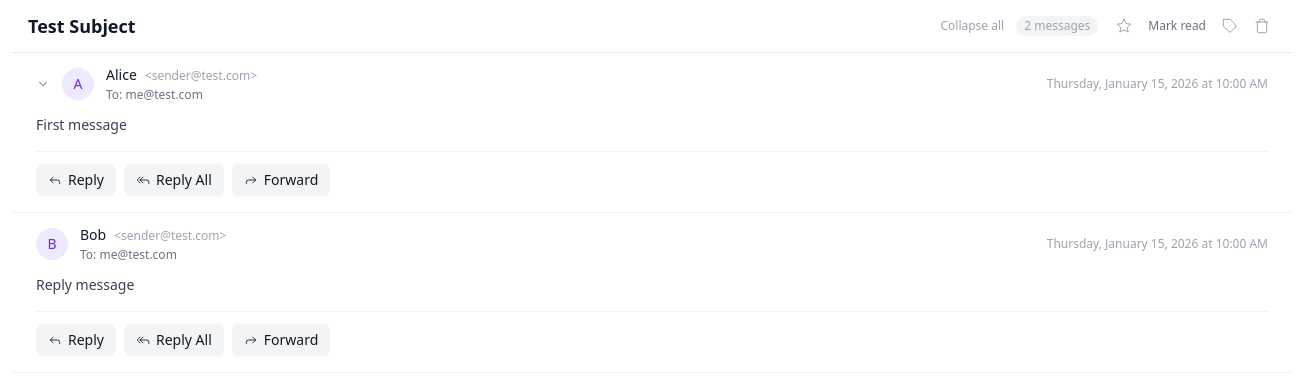
Scenario: MessageDetail › thread messages can be expanded and collapsed
The image size is (1304, 390).
Check: the text "First message" is shown, box top-left (36, 115), bottom-right (127, 134)
Check: the text "Reply message" is shown, box top-left (36, 275), bottom-right (134, 294)
Note: Click to collapse the first message (it's now expanded, so button label is "Collapse")
Click the button with aria-label "Collapse message from Alice" at (78, 84), box top-left (12, 53), bottom-right (1292, 115)
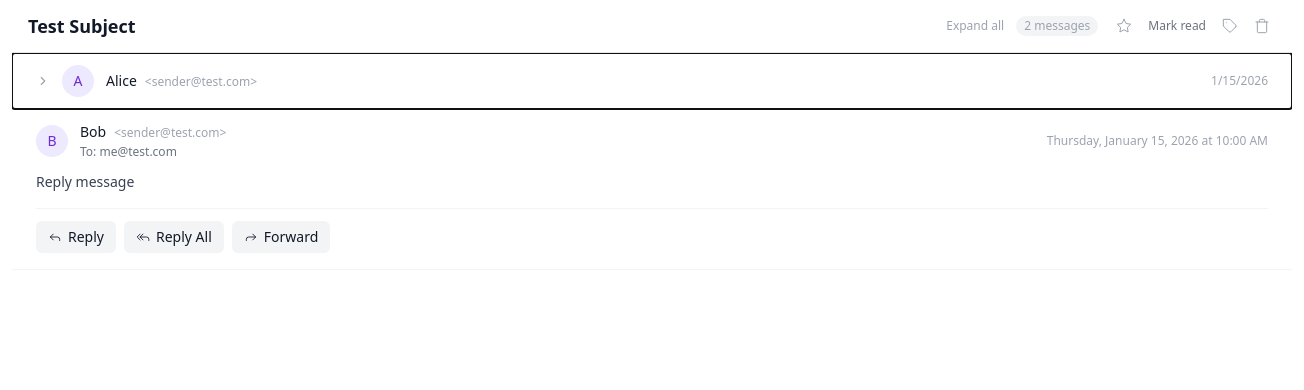
Check: the text "First message" is gone
Note: Click again to re-expand
Click the button with aria-label "Expand message from Alice" at (78, 81), box top-left (12, 53), bottom-right (1292, 109)
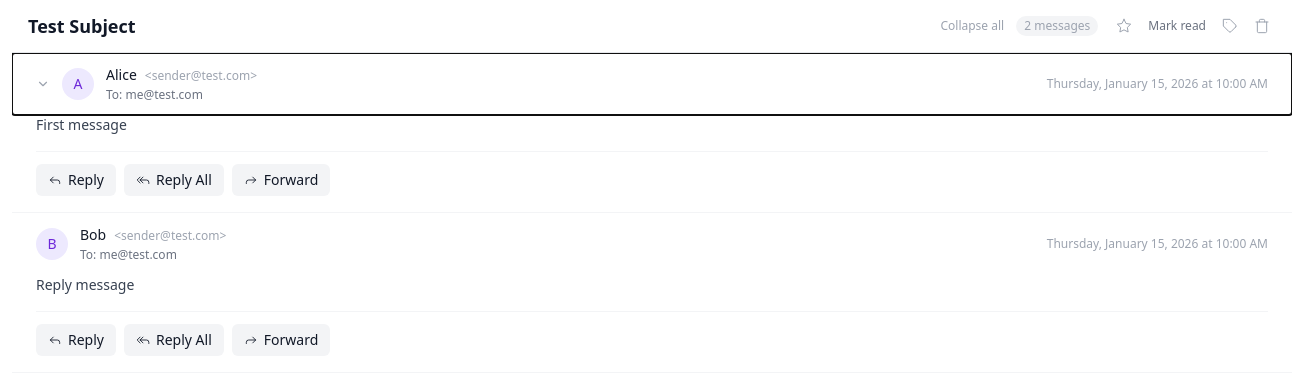
Check: the text "First message" is shown, box top-left (36, 115), bottom-right (127, 134)
